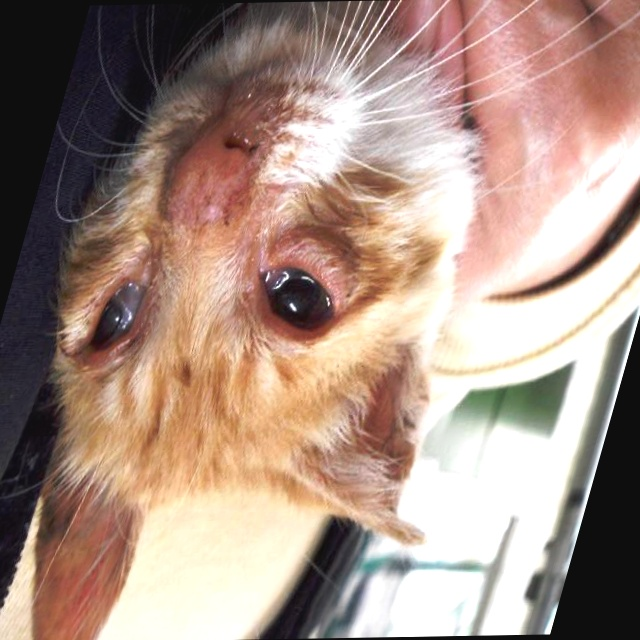eye_infection: (243, 250, 354, 339), (67, 273, 161, 360)
